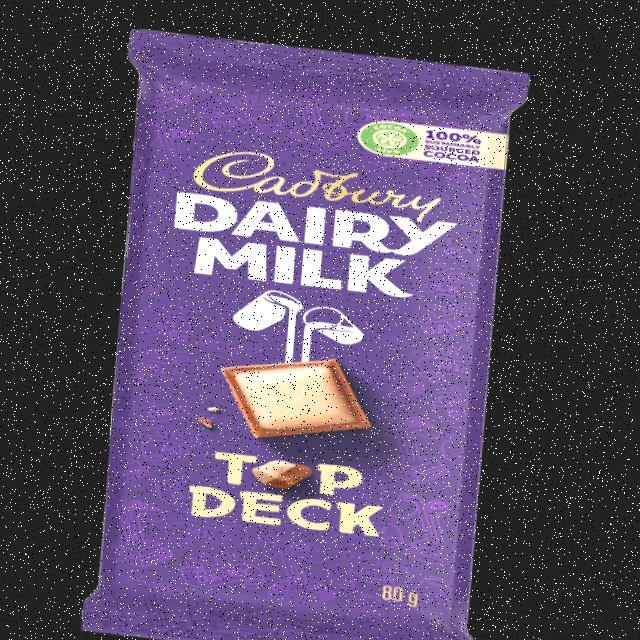cadbury_chocolate: (138, 21, 473, 640)
